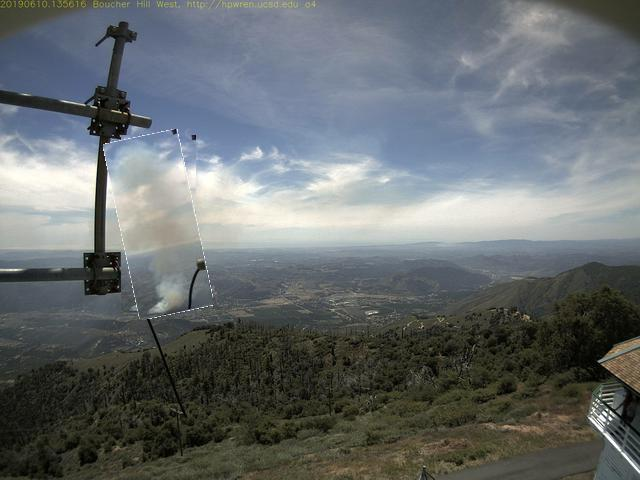smoke: (113, 133, 207, 319)
